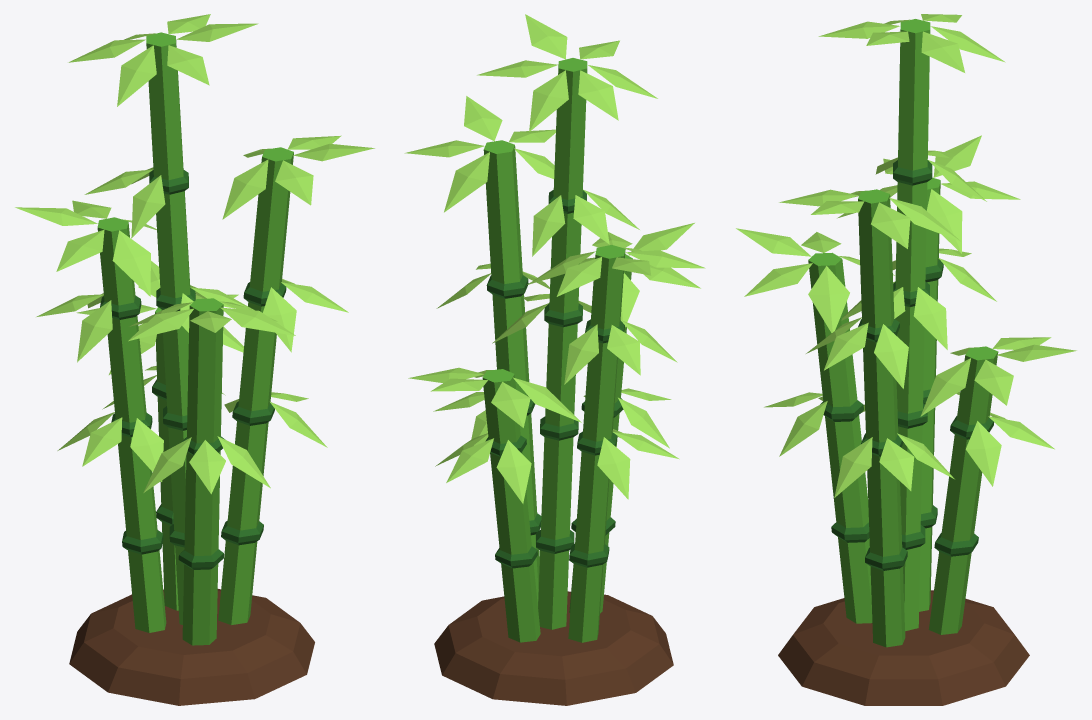
File: bamboo-cluster.glb
3 renders of one model, left to right at view 1: azimuth 30°, elevation 25°; view 2: azimuth 150°, elevation 25°; view 3: azimuth 270°, elevation 25°, orthographic. The views are drawn at different scales.
Parts seen in each view (by area): view 1: Stalks, Leaves, Mound, Nodes; view 2: Stalks, Leaves, Mound, Nodes; view 3: Stalks, Leaves, Mound, Nodes.
Boxes of the visible parts, x1,y1,x2,y2 form: Stalks: (97,32,293,645); Leaves: (15,14,374,494); Mound: (69,589,314,705); Nodes: (100,170,286,569); Stalks: (482,58,632,642); Leaves: (404,14,705,503); Mound: (434,591,673,705); Nodes: (485,190,624,568); Stalks: (808,19,998,647); Leaves: (736,14,1076,497); Mound: (778,590,1029,705); Nodes: (820,160,994,570).
Bounding box in the file's own units: 6.84 × 13.85 × 6.79.
